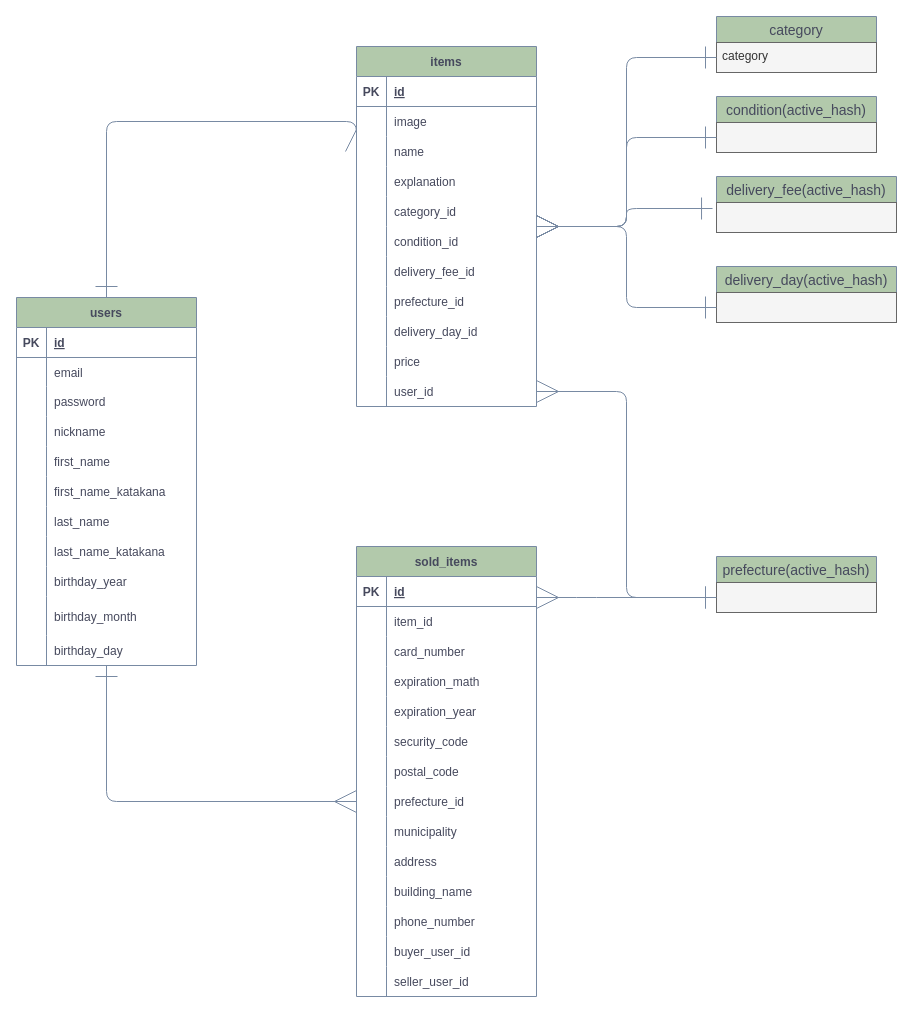
This 913x1013 diagram has some shape labels left out. Each missing label, with the centre of its shape:
conditon: (x=796, y=137)
delivery_day: (x=806, y=307)
delivery_fee: (x=806, y=217)
Prefecture: (x=796, y=597)
